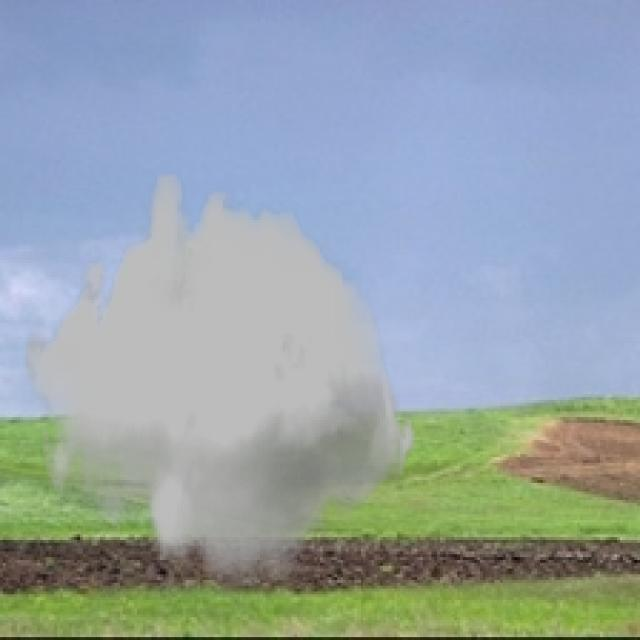Smoke: (22, 174, 418, 586)
